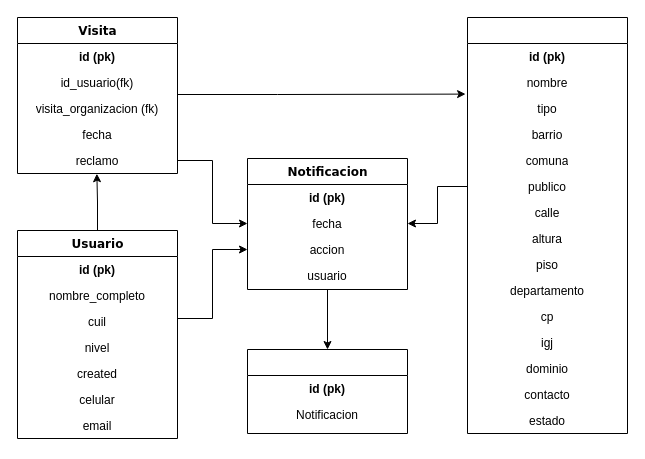
Image size: 645x459. Some labels were removed from this diagram. The box of each missing label's shape, as (x1, y1, x2, y2) in pixels:
Historial: (246, 348, 408, 434)
Organizacion: (466, 16, 628, 434)
